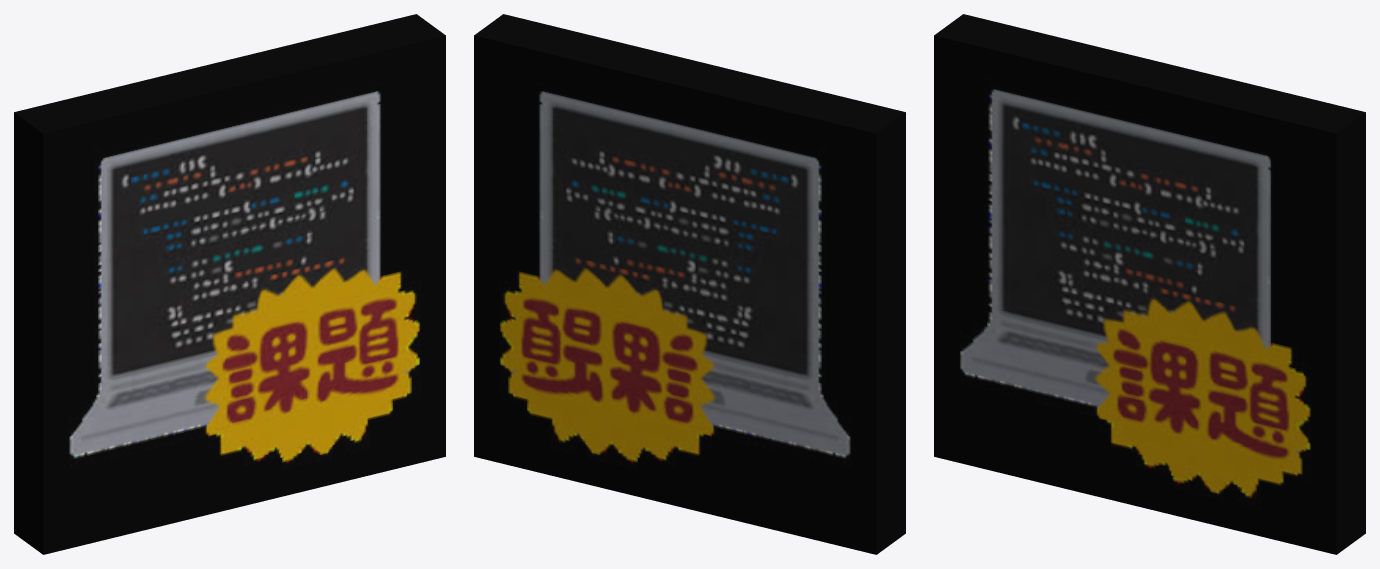
Rendered from homework.fbx.
The picture shows the model from 3 angles, left to right: view 1: azimuth 30°, elevation 25°; view 2: azimuth 150°, elevation 25°; view 3: azimuth 330°, elevation 25°; orthographic projection.
Visible parts, largest first — view 1: pPlane1; view 2: pPlane1; view 3: pPlane1.
Part boxes in pixels (x1,y1,x2,y2): pPlane1: [14, 14, 445, 554]; pPlane1: [474, 14, 905, 554]; pPlane1: [934, 14, 1365, 554].
Size of the model in its own units: 1 by 1 by 0.1264.
1 material, 1 textured.
